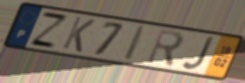7: (94, 20, 127, 58)
I: (122, 24, 149, 63)
J: (180, 36, 216, 72)
K: (60, 15, 97, 55)
R: (144, 28, 186, 70)
Z: (27, 10, 71, 50)
